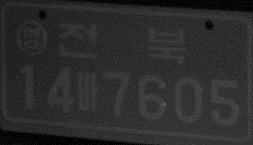0: (173, 76, 203, 124)
1: (12, 61, 44, 111)
4: (45, 69, 73, 115)
5: (210, 78, 240, 128)
6: (137, 73, 167, 120)
7: (101, 70, 130, 116)
바: (75, 69, 99, 114)
영: (14, 19, 49, 57)
전북_D: (56, 21, 187, 64)
